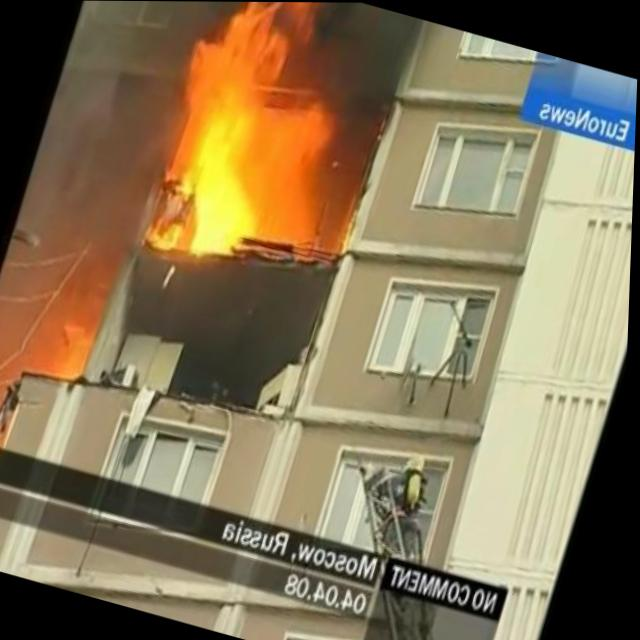fire: (128, 1, 365, 288)
